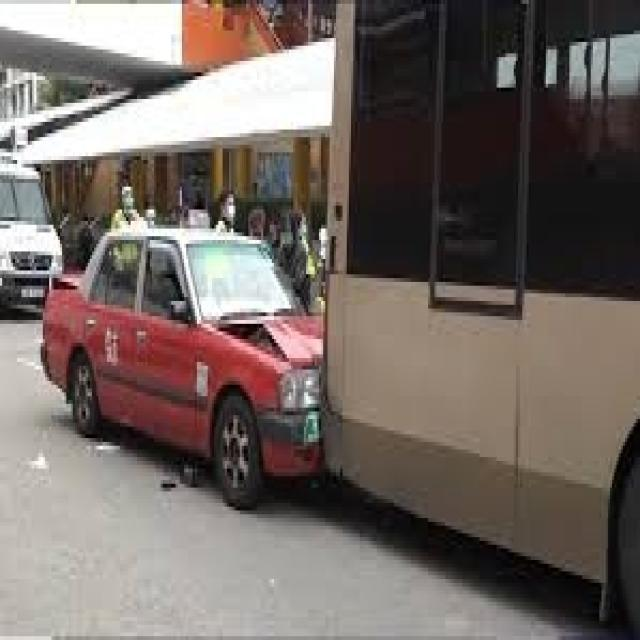accident: (214, 220, 384, 507)
